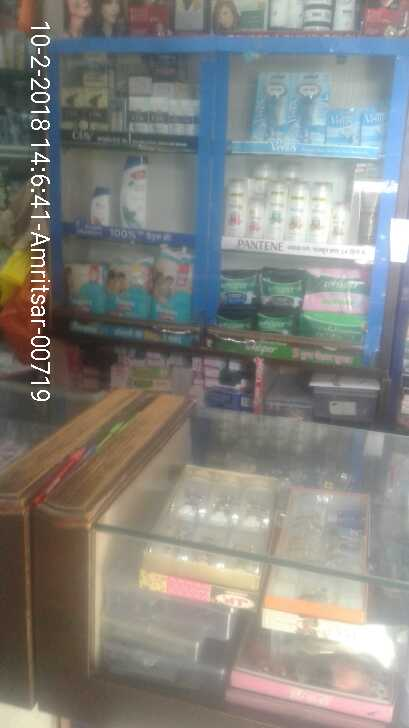venus: (256, 72, 291, 137), (294, 72, 327, 139), (357, 110, 390, 146), (331, 106, 357, 146)
